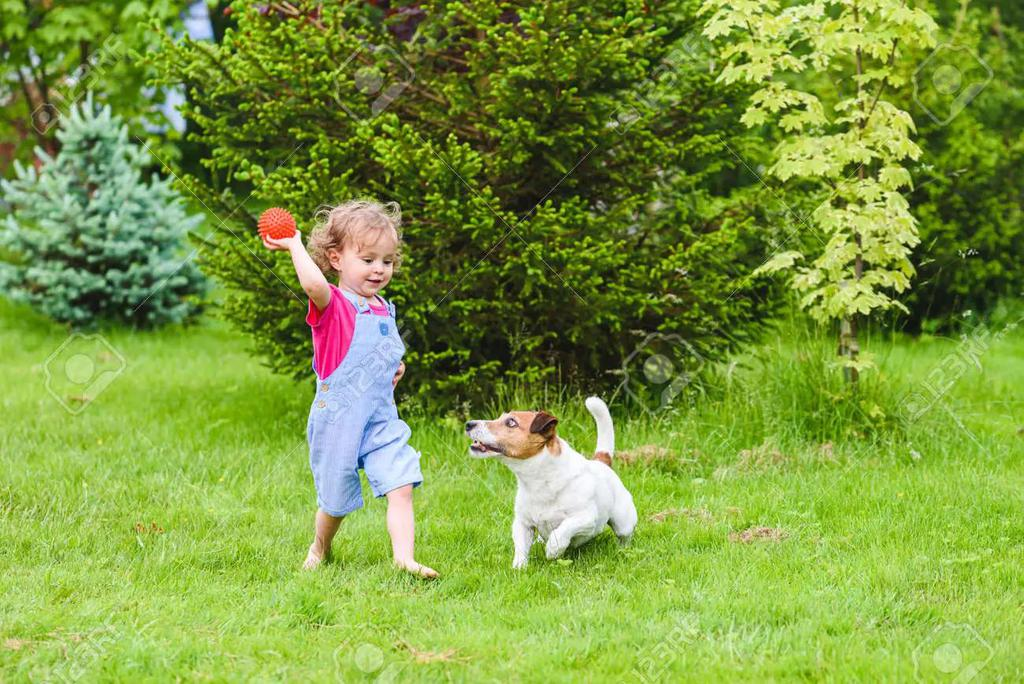child: (239, 179, 444, 585)
